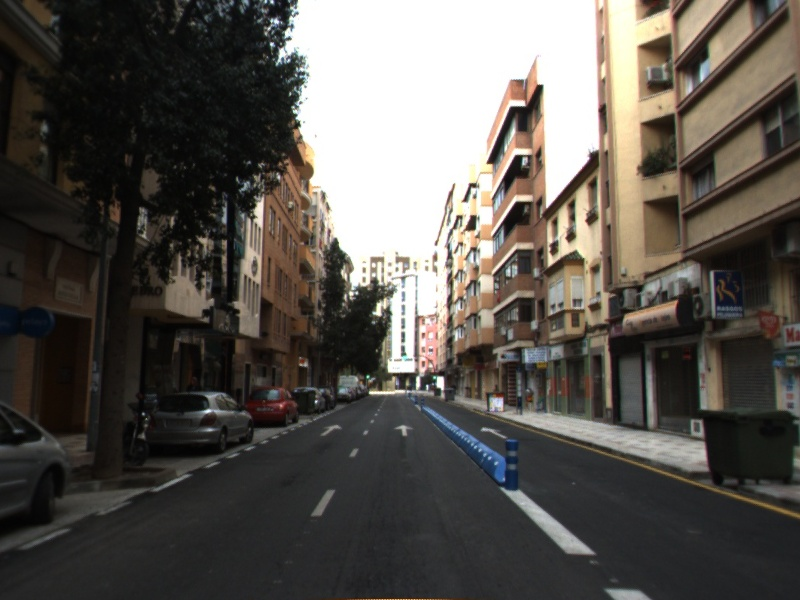STRAIGHT: (479, 425, 508, 440), (319, 423, 344, 437), (392, 423, 415, 437)
